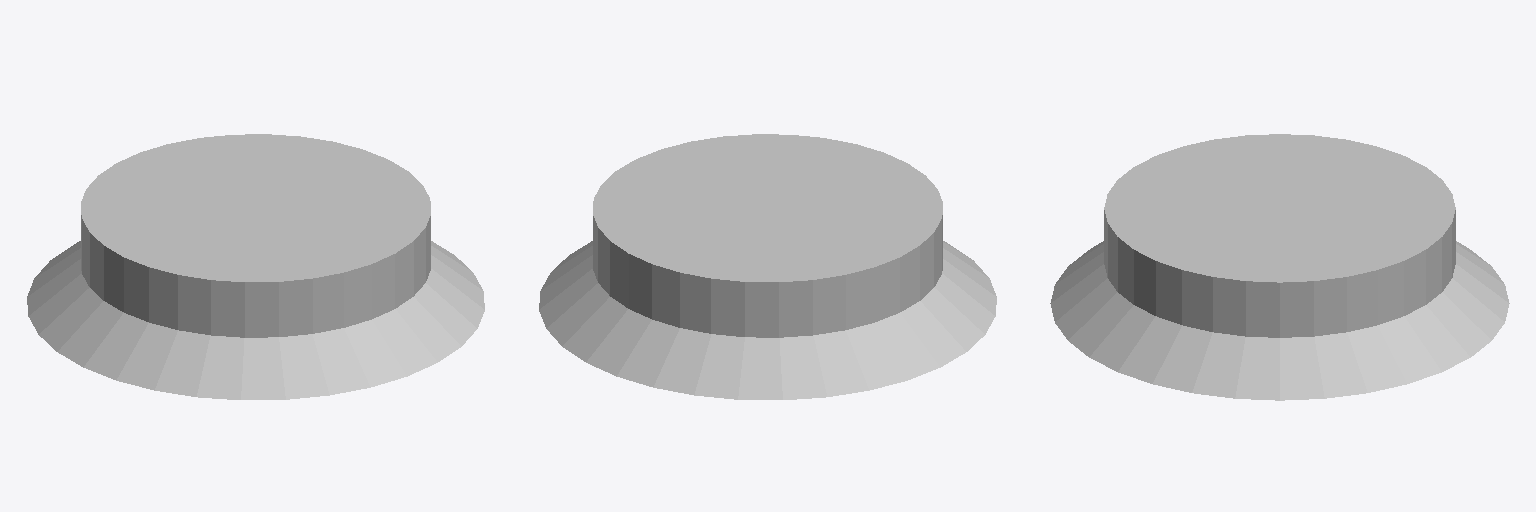
File: eight-ball-base.obj
3 views of the same model, side by side, from view 1: azimuth 30°, elevation 25°; view 2: azimuth 150°, elevation 25°; view 3: azimuth 270°, elevation 25° (orthographic).
Parts seen in each view (by area): view 1: Cylinder; view 2: Cylinder; view 3: Cylinder.
Boxes of the visible parts, x1,y1,x2,y2 form: Cylinder: [27, 134, 484, 399]; Cylinder: [539, 134, 996, 399]; Cylinder: [1050, 134, 1509, 400].
Bounding box in the file's own units: 1.93 × 0.4414 × 1.93.